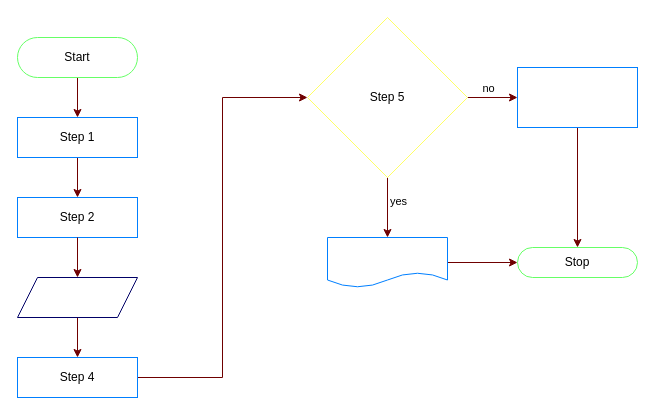
This 655x415 diagram has some shape labels left out. Each missing label, with the centre of its shape:
"Step 3" goes at (77,297).
"Step 6A" goes at (387,262).
"Step 6B" goes at (577,97).
